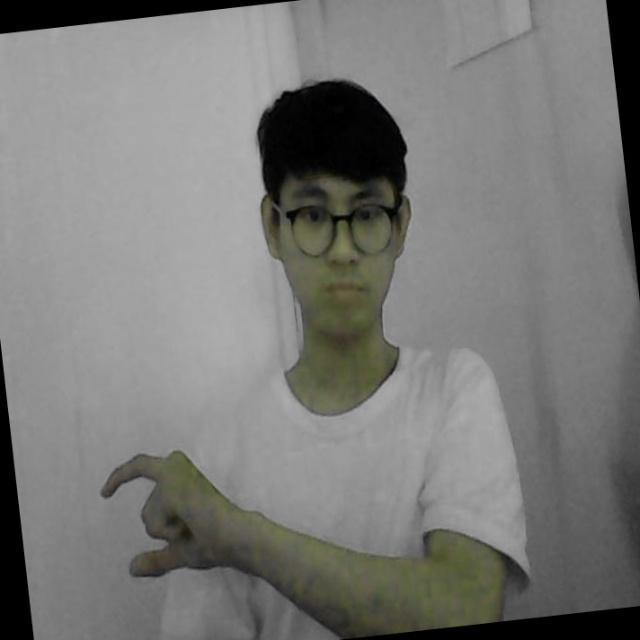C: (90, 444, 214, 592)
